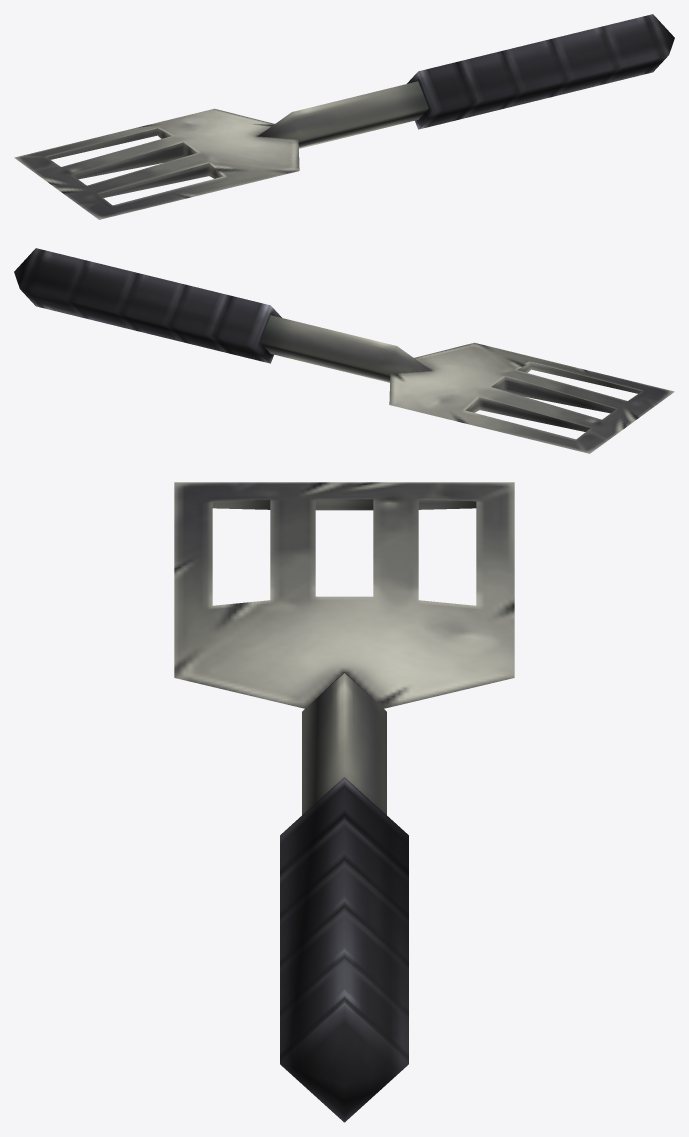
The model's file is wp_dagger04.FBX.
3 views of the same model, one above another, from view 1: azimuth 30°, elevation 25°; view 2: azimuth 150°, elevation 25°; view 3: azimuth 270°, elevation 25° (orthographic). The views are drawn at different scales.
Visible parts, largest first — view 1: wp_dagger04; view 2: wp_dagger04; view 3: wp_dagger04.
Boxes of the visible parts, bbox=[...] form: wp_dagger04: bbox=[14, 14, 674, 219]; wp_dagger04: bbox=[14, 248, 674, 453]; wp_dagger04: bbox=[174, 482, 514, 1122].
Bounding box in the file's own units: 157 × 14.15 × 37.44.
Materials: 1 (1 with a texture image).
